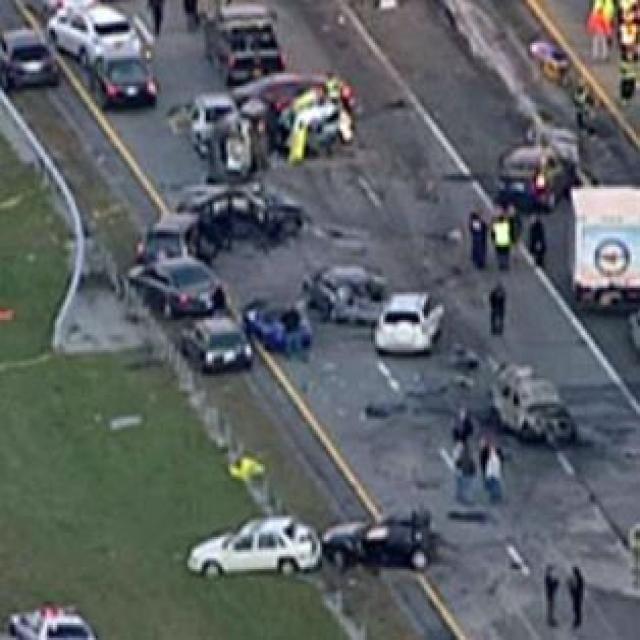traffic_incident: (118, 163, 310, 376), (163, 71, 361, 163), (467, 357, 591, 453), (473, 124, 573, 208), (306, 262, 393, 324)
